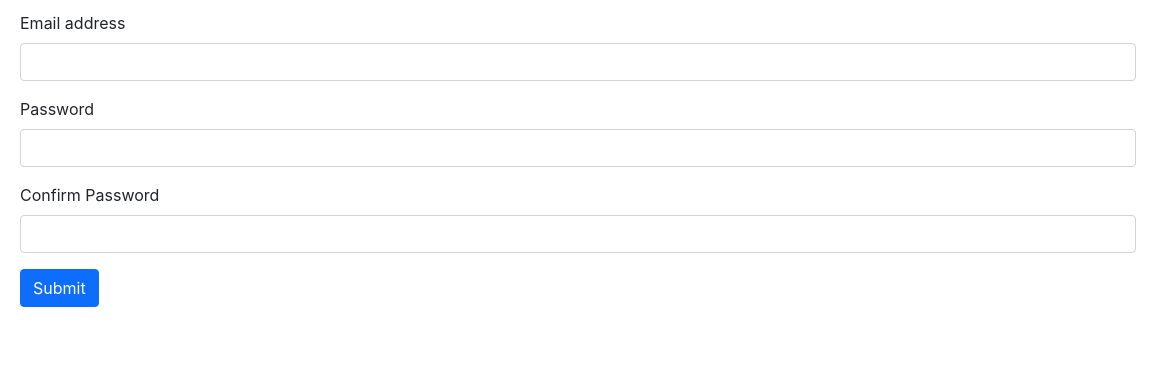
Test: App › Error Handling › should show confirm password error if password confirmation doesn't match password field
Type "selena@gmail.com" into the field labelled "Email address" at (578, 62), box x1=20 y1=43 x2=1136 y2=81
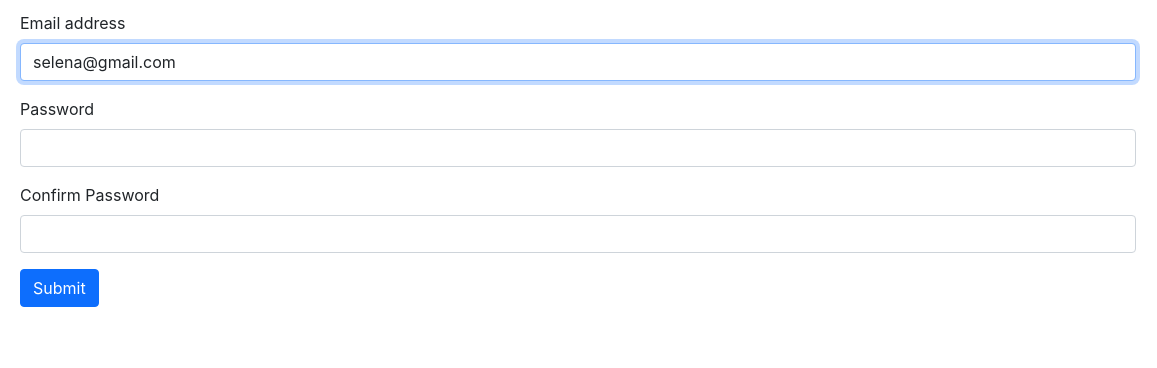
Type "password" into the password field labelled "Password" at (578, 148), box x1=20 y1=129 x2=1136 y2=167
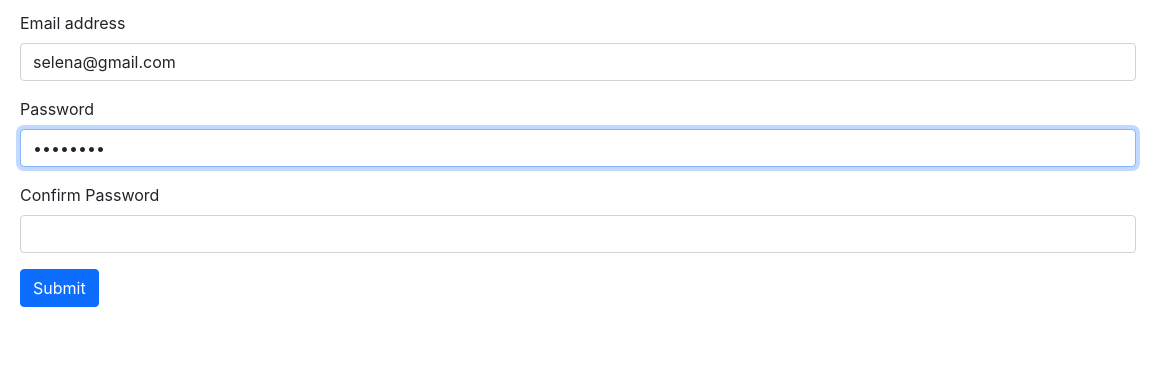
Expected: the text "the passwords don't match. try again" is not shown
Type "wordpass" into the password field labelled "Confirm Password" at (578, 234), box x1=20 y1=215 x2=1136 y2=253
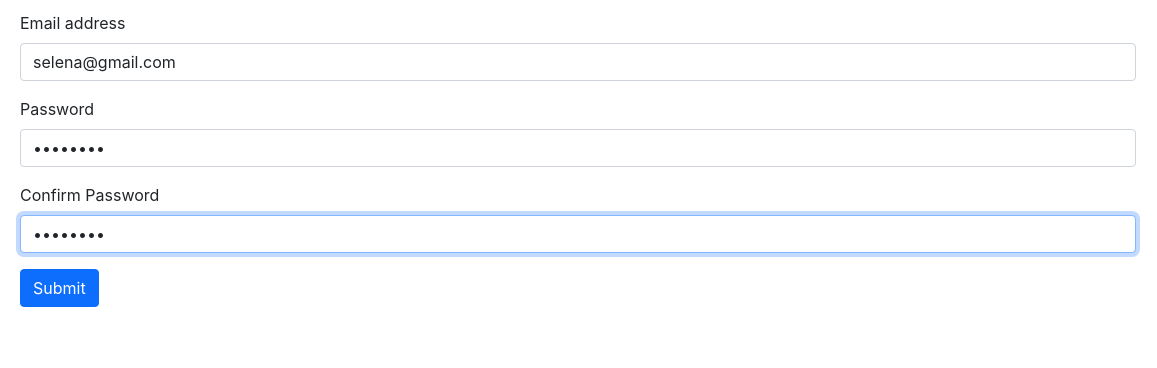
Click the button "Submit" at (59, 288), box x1=20 y1=269 x2=99 y2=307
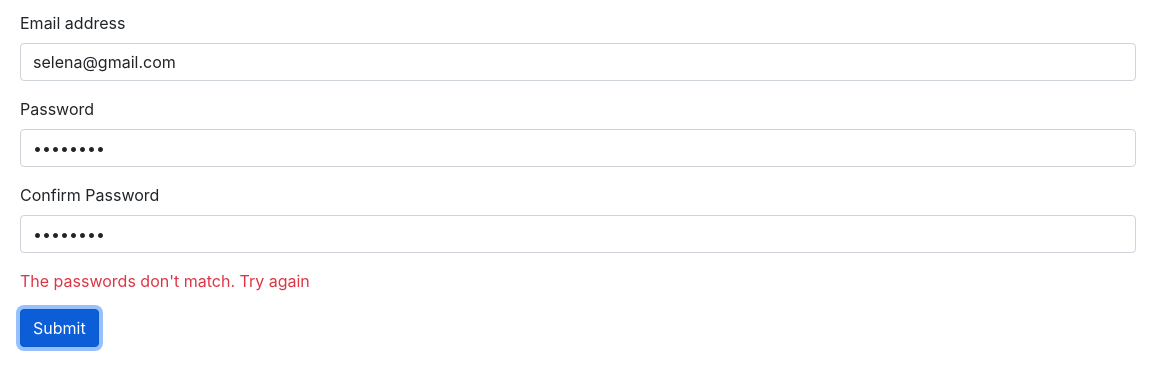
Now the text "The passwords don't match. Try again" is shown, box x1=20 y1=271 x2=310 y2=291
